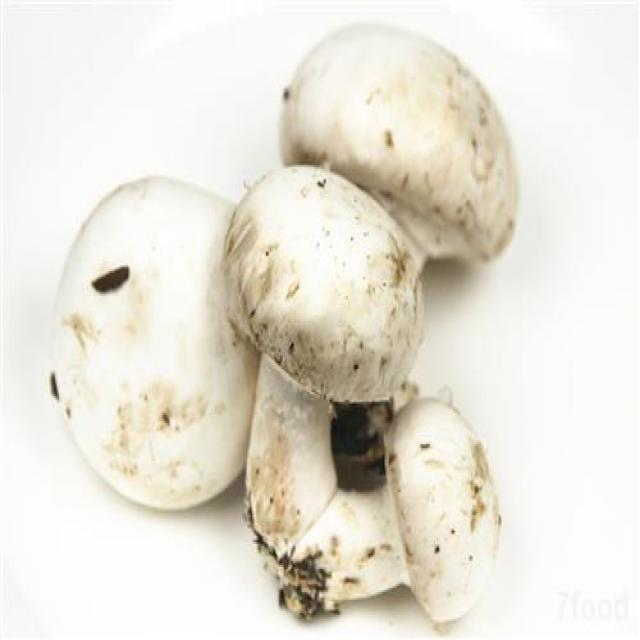Agaricus bisporus: (226, 158, 421, 550), (58, 171, 269, 504), (277, 28, 526, 272), (305, 408, 503, 614)
